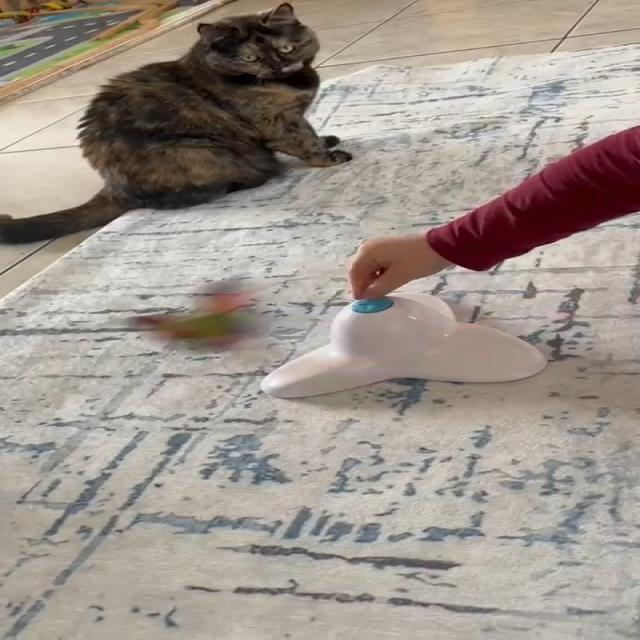authorized: (0, 1, 352, 245)
